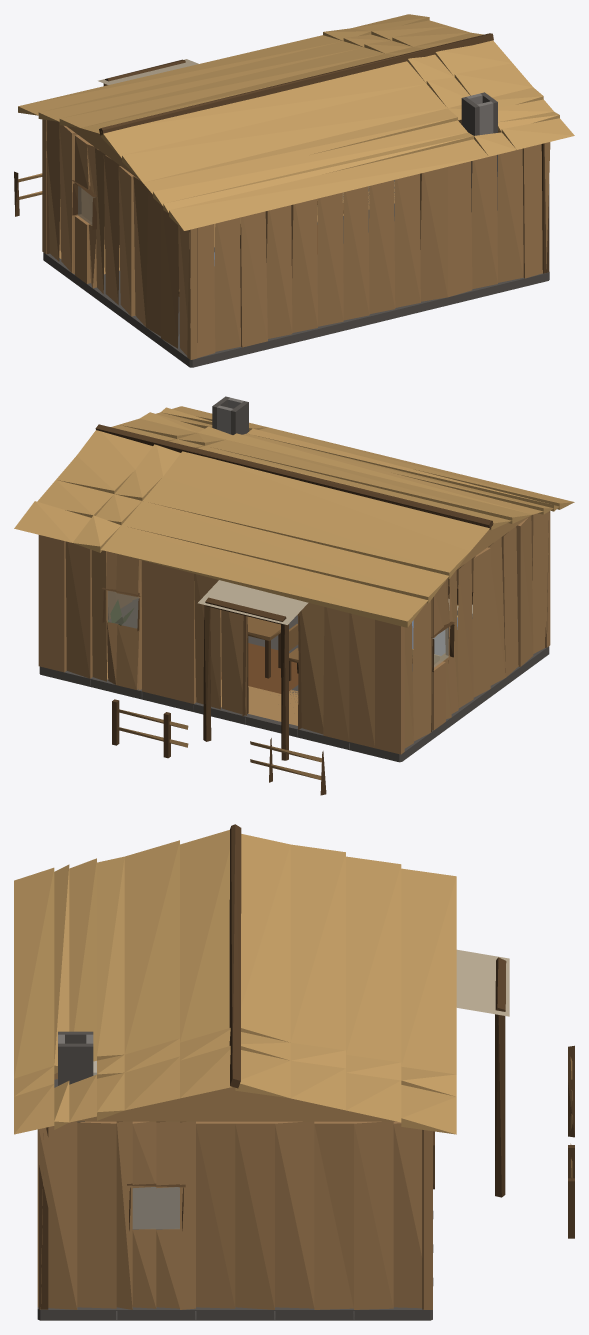
Rendered from SM_CASA_05_CASA_VECINO_MEDIA.glb.
3 renders of one model, top to bottom at view 1: azimuth 30°, elevation 25°; view 2: azimuth 150°, elevation 25°; view 3: azimuth 270°, elevation 25°, orthographic. The views are drawn at different scales.
Parts seen in each view (by area): view 1: SM_Pared_Norte, SM_Techo_Izq, SM_Pared_Oeste, SM_Techo_Der, SM_Cimiento, SM_Cumbrera, SM_Cocina, SM_Pared_Sur, SM_Portico, SM_Pared_Este; view 2: SM_Techo_Der, SM_Pared_Sur, SM_Pared_Oeste, SM_Techo_Izq, SM_Cimiento, SM_Portico, SM_Cumbrera, SM_Suelo, SM_Valla_Patio, SM_Cocina, SM_Mesa_Sillas, SM_Pared_Norte (+1 smaller); view 3: SM_Pared_Este, SM_Techo_Der, SM_Techo_Izq, SM_Cimiento, SM_Portico, SM_Cumbrera, SM_Pared_Sur, SM_Cocina, SM_Valla_Patio, SM_Pared_Norte.
Boxes of the visible parts, <box> form: SM_Pared_Norte: <box>187,143,549,359</box>; SM_Techo_Izq: <box>101,40,574,230</box>; SM_Pared_Oeste: <box>46,120,196,359</box>; SM_Techo_Der: <box>18,14,483,133</box>; SM_Cimiento: <box>43,180,549,367</box>; SM_Cumbrera: <box>99,33,493,135</box>; SM_Cocina: <box>461,92,497,211</box>; SM_Pared_Sur: <box>42,119,140,254</box>; SM_Portico: <box>98,59,198,85</box>; SM_Pared_Este: <box>458,120,550,272</box>; SM_Techo_Der: <box>14,430,489,627</box>; SM_Pared_Sur: <box>38,535,404,754</box>; SM_Pared_Oeste: <box>395,511,550,750</box>; SM_Techo_Izq: <box>111,406,574,530</box>; SM_Cimiento: <box>39,598,549,762</box>; SM_Portico: <box>198,580,308,760</box>; SM_Cumbrera: <box>95,424,493,529</box>; SM_Suelo: <box>107,643,298,725</box>; SM_Valla_Patio: <box>112,699,326,795</box>; SM_Cocina: <box>108,396,248,625</box>; SM_Mesa_Sillas: <box>247,616,298,680</box>; SM_Pared_Norte: <box>448,511,550,647</box>; SM_Pared_Este: <box>37,1087,422,1309</box>; SM_Techo_Der: <box>235,834,456,1134</box>; SM_Techo_Izq: <box>14,830,231,1134</box>; SM_Cimiento: <box>37,1079,433,1320</box>; SM_Portico: <box>456,949,509,1197</box>; SM_Cumbrera: <box>229,824,241,1088</box>; SM_Pared_Sur: <box>422,1130,434,1309</box>; SM_Cocina: <box>58,1031,93,1122</box>; SM_Valla_Patio: <box>568,1045,574,1238</box>; SM_Pared_Norte: <box>39,1127,48,1309</box>.
Bounding box in the file's own units: 7.6 × 3.52 × 7.1.
